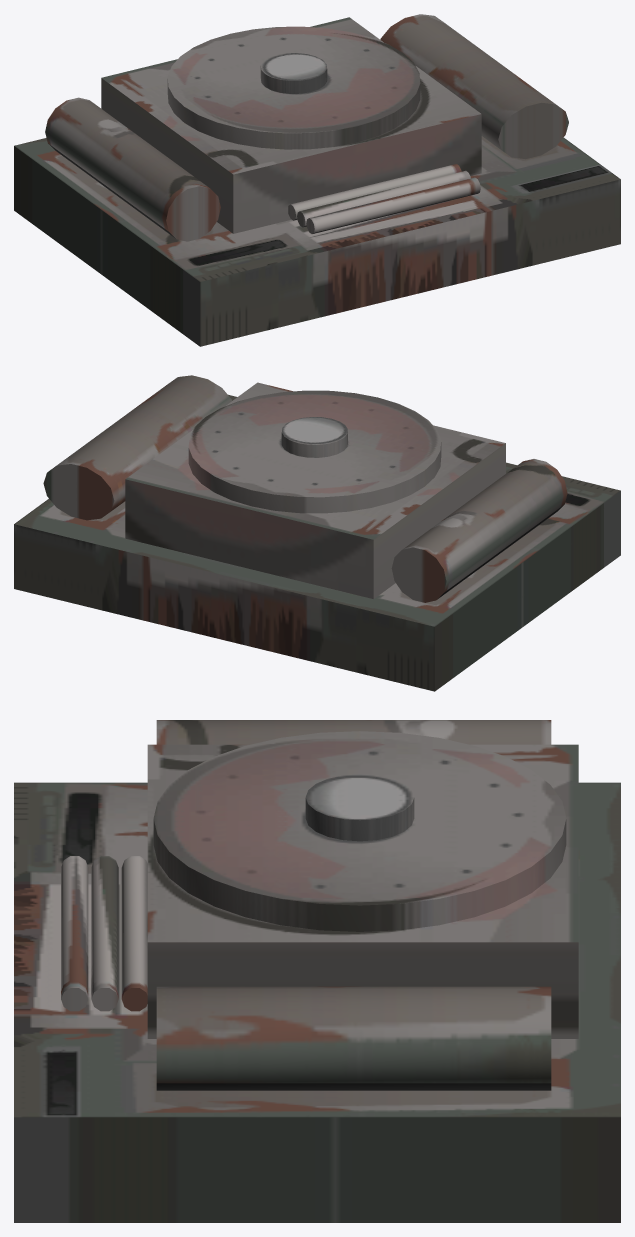
File: Building_AncientLargeMechGestator.obj
The picture shows the model from 3 angles, top to bottom: view 1: azimuth 30°, elevation 25°; view 2: azimuth 150°, elevation 25°; view 3: azimuth 270°, elevation 25°; orthographic projection. The views are drawn at different scales.
Parts seen in each view (by area): view 1: Body; view 2: Body; view 3: Body.
Part boxes in pixels (bbox=[...]): Body: bbox=[14, 14, 620, 346]; Body: bbox=[14, 375, 620, 691]; Body: bbox=[14, 720, 620, 1222].
Bounding box in the file's own units: 4.08 × 1.42 × 3.12.
Materials: 1 (1 with a texture image).
